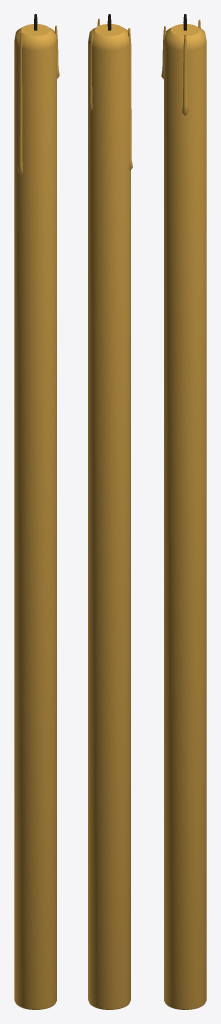
The model's file is candle.glb.
3 renders of one model, left to right at view 1: azimuth 90°, elevation 25°; view 2: azimuth 210°, elevation 25°; view 3: azimuth 270°, elevation 25°, orthographic.
Visible parts, largest first — view 1: Wax, WaxTrail.001; view 2: Wax, WaxTrail.001, WaxTrail; view 3: Wax, WaxTrail.
Part boxes in pixels (x1,y1,x2,y2): Wax: (14, 24, 56, 1009); WaxTrail.001: (18, 32, 23, 174); Wax: (88, 24, 130, 1009); WaxTrail.001: (128, 28, 132, 170); WaxTrail: (88, 30, 93, 110); Wax: (164, 24, 206, 1009); WaxTrail: (182, 34, 188, 115).
Bounding box in the file's own units: 0.0106 × 0.254 × 0.0106.
